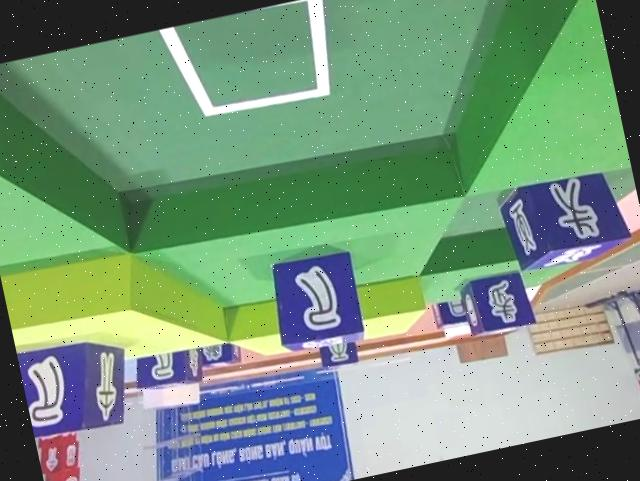R2 Fake Blue: (500, 165, 638, 276), (16, 325, 138, 439), (264, 245, 368, 354), (457, 269, 534, 340), (128, 341, 204, 393), (314, 336, 359, 372)
